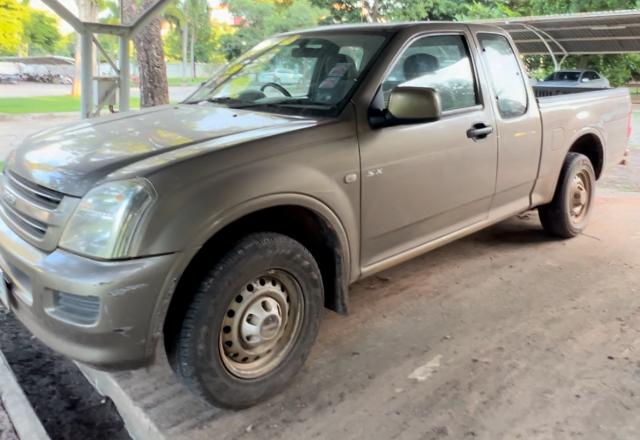pickup-truck: (5, 22, 633, 410)
